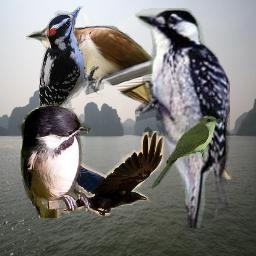Crow: (43, 131, 165, 216)
Cuckoo: (26, 23, 236, 184), (151, 116, 222, 190)
Swallow: (18, 102, 95, 218)
Woodpecker: (135, 8, 230, 228), (39, 6, 99, 117)
